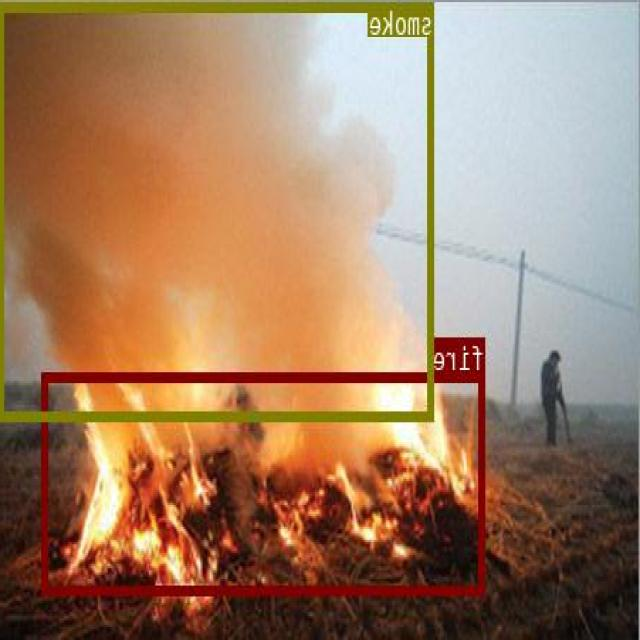fire: (43, 371, 485, 594)
smoke: (0, 1, 434, 419)
